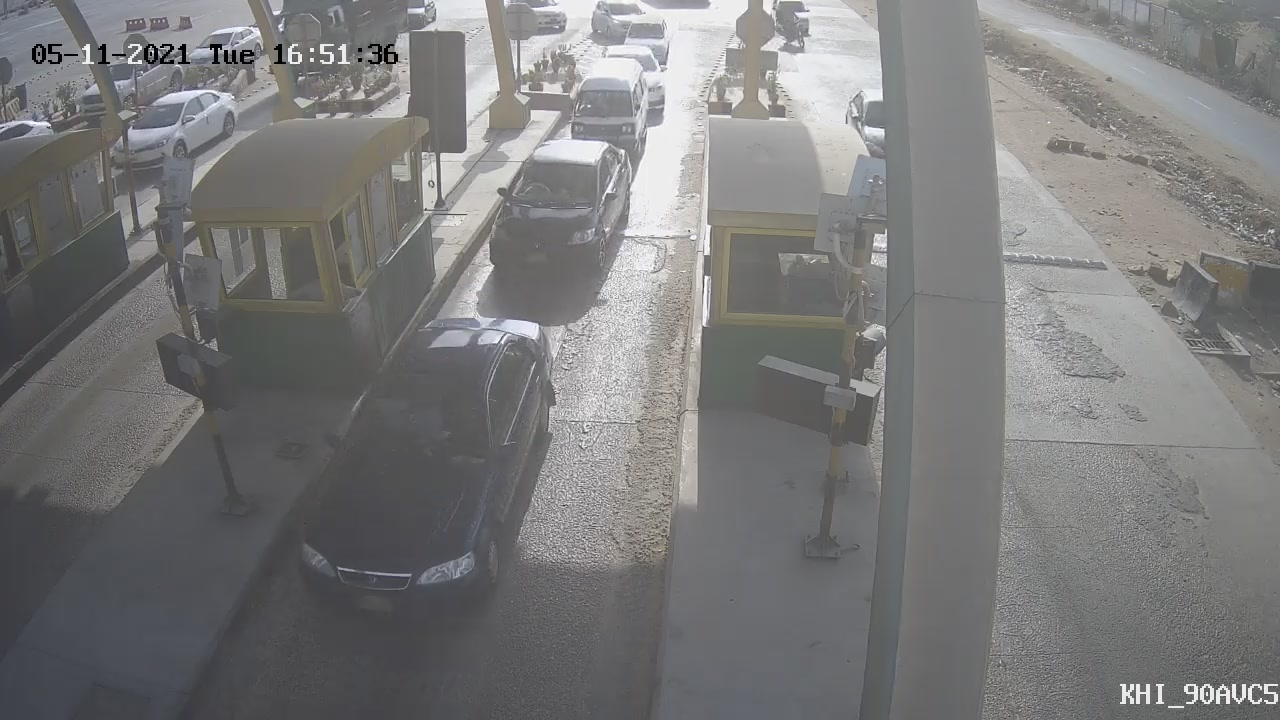F1: (465, 124, 651, 301), (551, 48, 668, 172)
